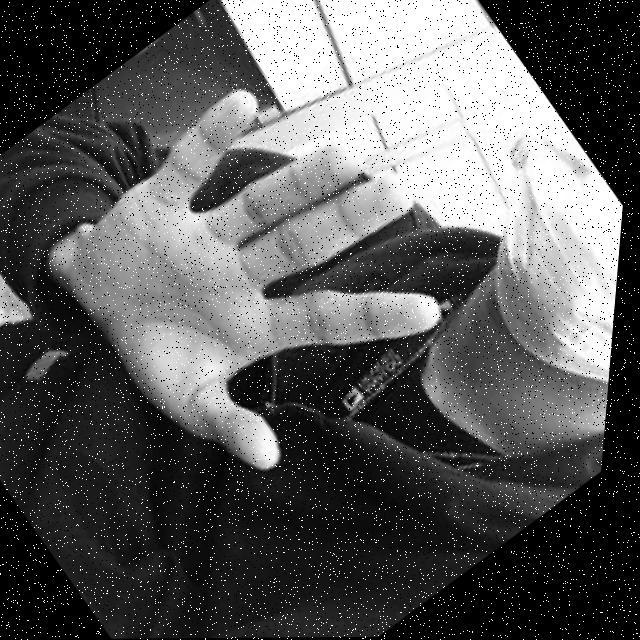no-gloves: (9, 31, 516, 513)
